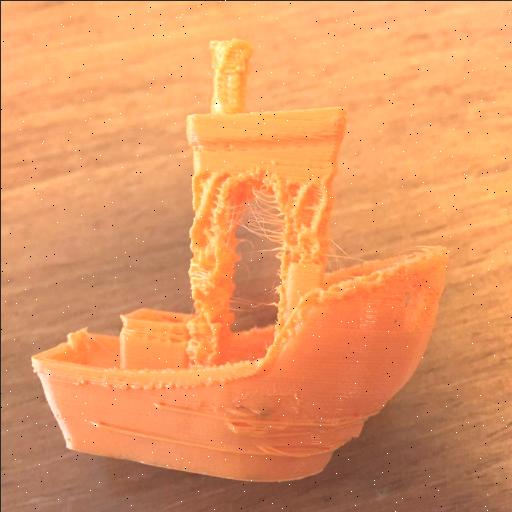cracks: (74, 390, 380, 463), (185, 170, 220, 374), (288, 166, 334, 280), (204, 32, 250, 116)
stringing: (224, 170, 284, 350)
